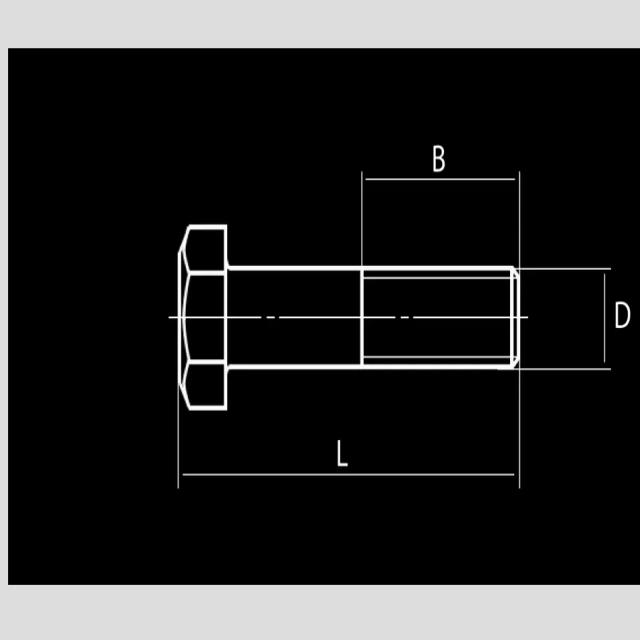marking_line: (173, 413, 522, 489), (360, 176, 523, 266), (522, 266, 608, 371)
numeric: (335, 432, 348, 470), (616, 301, 633, 328), (430, 146, 446, 171)
